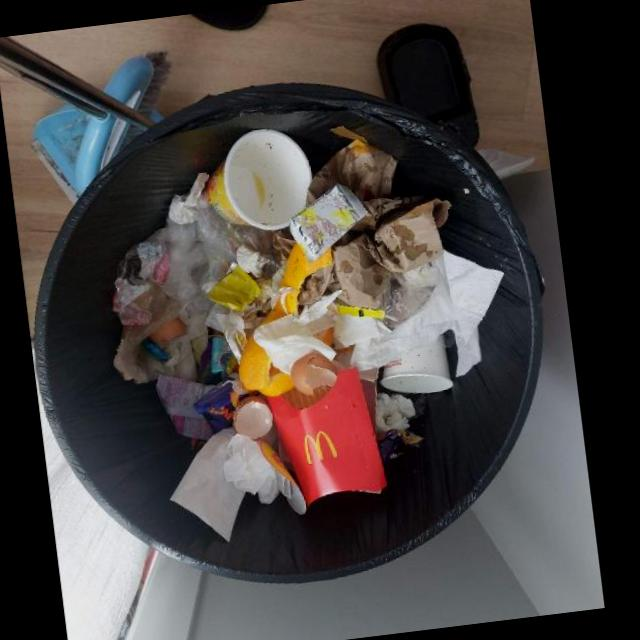bao_bi_thuc_pham: (289, 182, 368, 262), (193, 368, 267, 434), (376, 428, 425, 463)
carton: (266, 367, 387, 507)
giay: (297, 126, 451, 307), (330, 248, 504, 377), (223, 433, 291, 503), (380, 333, 453, 392)
tui_ni_long: (156, 191, 273, 316)
vo_trai_cay: (255, 242, 332, 329), (238, 330, 295, 396)
vo_trung: (290, 353, 337, 395), (233, 395, 272, 438), (148, 317, 187, 349)
